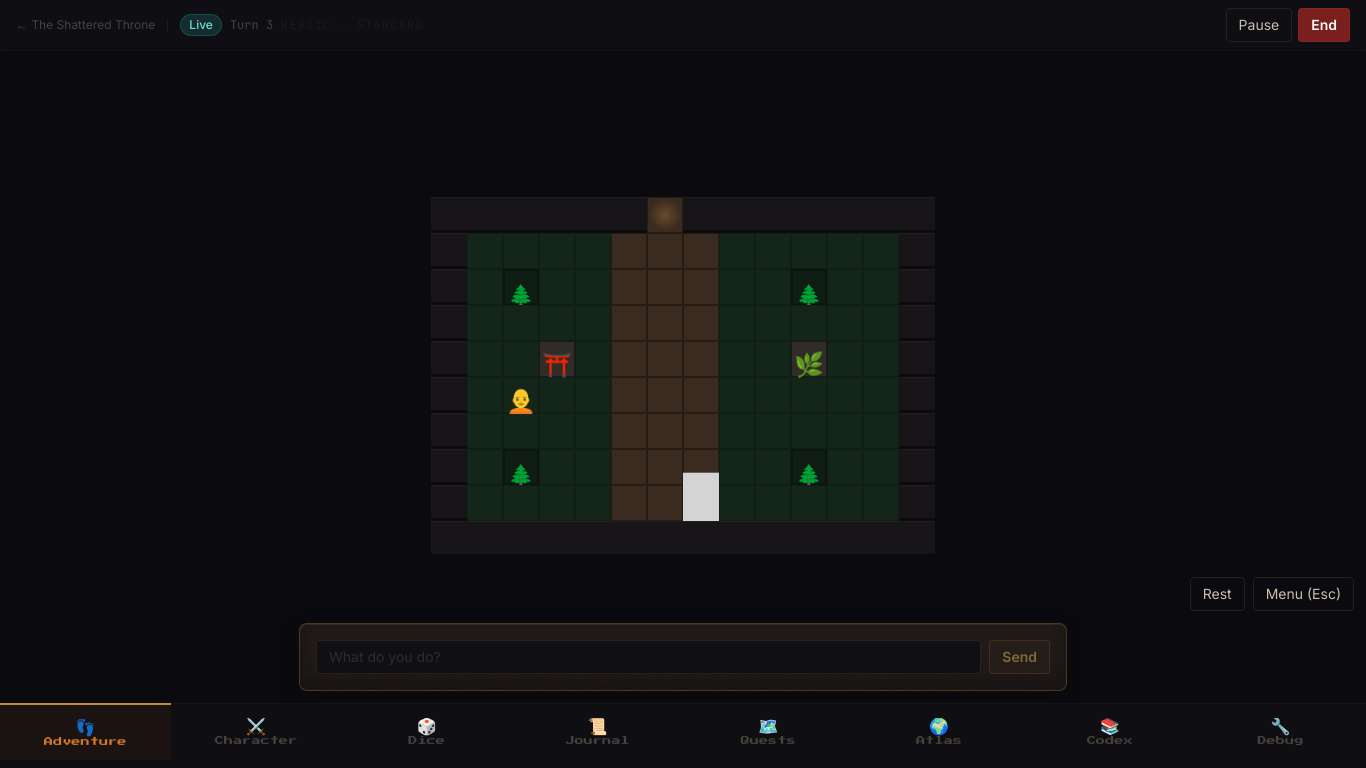
it: AdventureHub — panel tabs open the pause overlay over the world › opens the Dice overlay with the real DicePanel
The image size is (1366, 768).
Click the tab "🎲 Dice" at (427, 732), box x1=342 y1=704 x2=512 y2=760
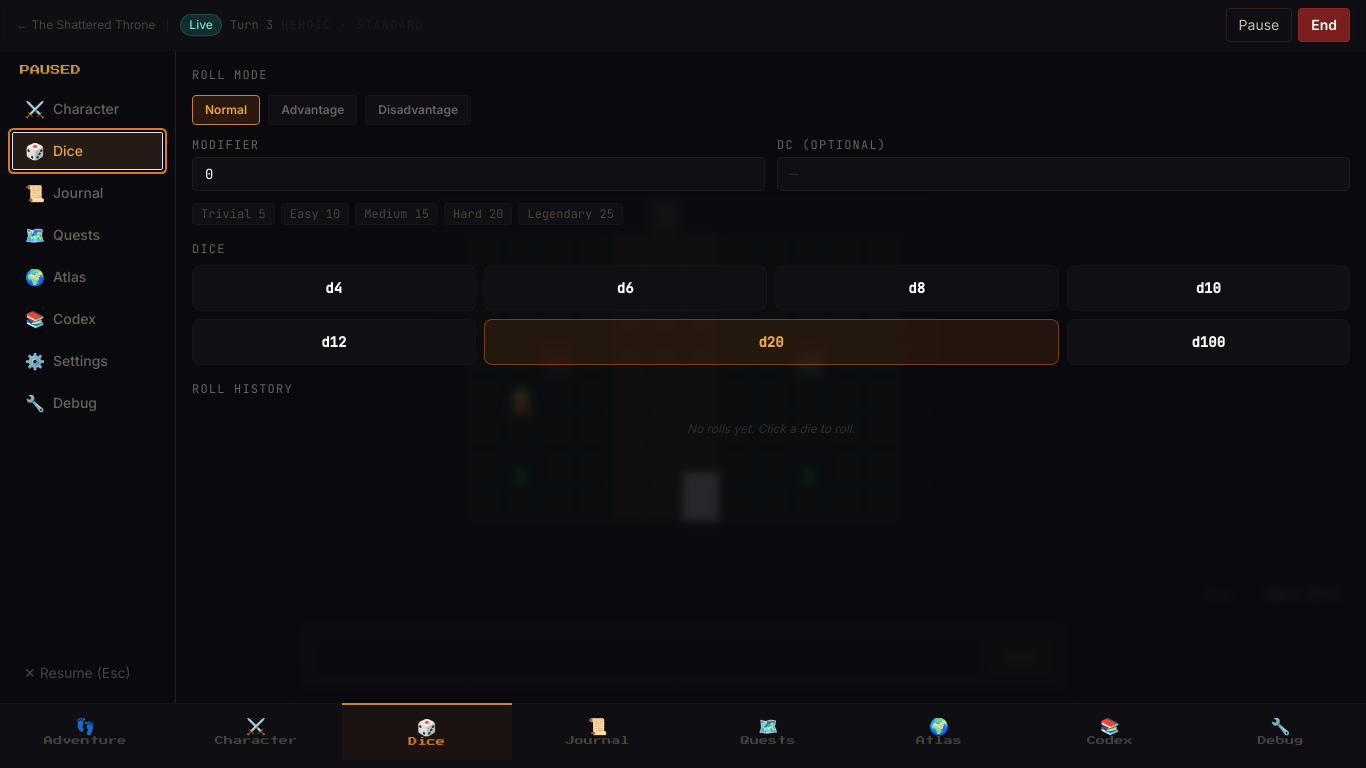
Check: the text "Roll Mode" is shown, box x1=192 y1=67 x2=268 y2=83
